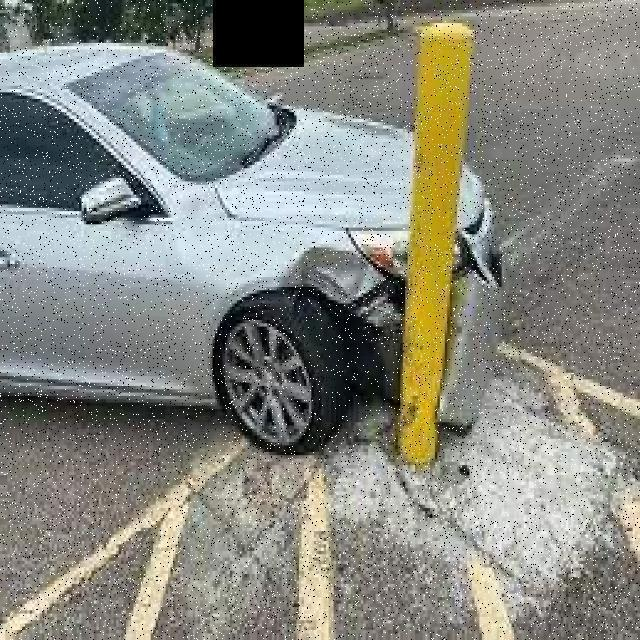accident: (638, 0, 640, 2)
